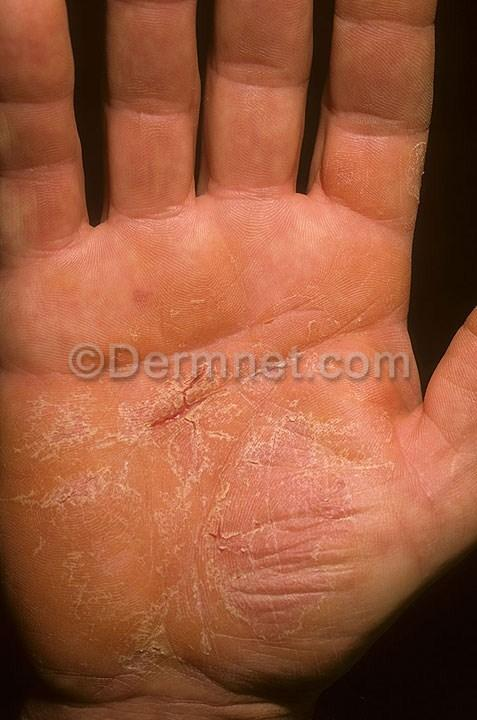Eczema: (6, 392, 137, 521), (183, 477, 327, 576), (146, 377, 250, 462)
